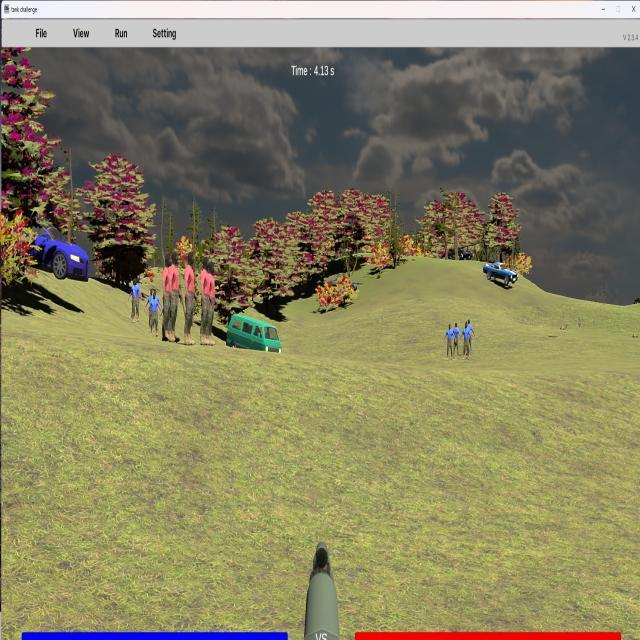Human: (201, 259, 217, 347), (168, 254, 183, 340), (167, 254, 181, 337), (184, 254, 197, 342), (200, 258, 211, 345), (162, 256, 173, 338), (145, 288, 161, 337), (128, 276, 140, 322), (442, 323, 455, 360), (461, 321, 473, 360)
car: (226, 314, 281, 359), (483, 262, 518, 286)
